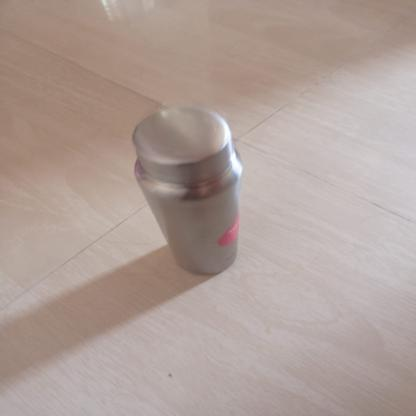bottle: (115, 102, 269, 281)
